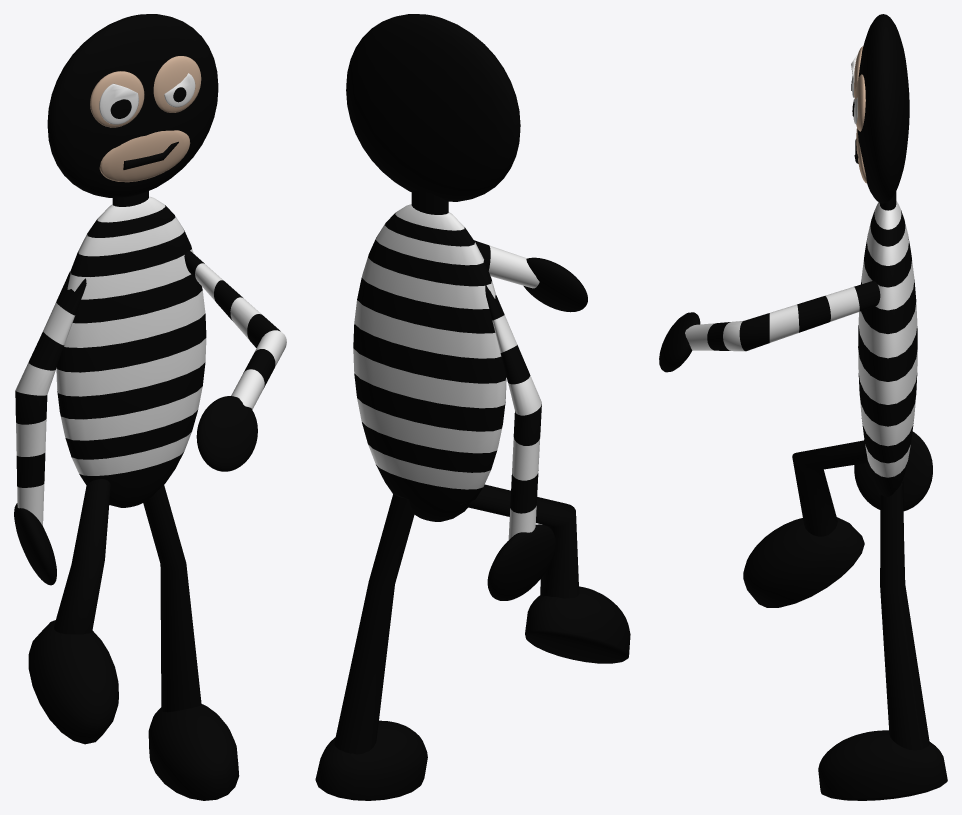
File: Burglar1.fbx
3 views of the same model, side by side, from view 1: azimuth 30°, elevation 25°; view 2: azimuth 150°, elevation 25°; view 3: azimuth 270°, elevation 25° (orthographic). The views are drawn at different scales.
Parts seen in each view (by area): view 1: pSphere1, pSphere2, pasted__pasted__pasted__pSphere1, pasted__pasted__pasted__pasted__pSphere1, pCylinder1, pasted__pasted__pasted__pCylinder1, pasted__pCylinder1, pasted__pasted__pCylinder1, pasted__pSphere5, pSphere4, pSphere5, pasted__pSphere3 (+3 smaller); view 2: pSphere1, pSphere2, pCylinder1, pasted__pasted__pasted__pasted__pSphere1, pasted__pasted__pasted__pSphere1, pasted__pasted__pasted__pCylinder1, pasted__pCylinder1, pSphere5, pasted__pSphere5, pasted__pasted__pCylinder1, pCylinder2; view 3: pSphere1, pCylinder1, pSphere2, pasted__pasted__pasted__pSphere1, pasted__pasted__pasted__pasted__pSphere1, pasted__pasted__pCylinder1, pasted__pCylinder1, pSphere5, pasted__pSphere5.
Boxes of the visible parts, x1,y1,x2,y2 form: pSphere1: (56, 196, 206, 507); pSphere2: (47, 14, 218, 197); pasted__pasted__pasted__pSphere1: (28, 620, 118, 744); pasted__pasted__pasted__pasted__pSphere1: (148, 704, 239, 800); pCylinder1: (143, 485, 201, 712); pasted__pasted__pasted__pCylinder1: (15, 271, 86, 525); pasted__pCylinder1: (54, 479, 110, 634); pasted__pasted__pCylinder1: (184, 251, 286, 409); pasted__pSphere5: (196, 396, 257, 471); pSphere4: (99, 130, 190, 182); pSphere5: (14, 503, 56, 585); pasted__pSphere3: (153, 56, 201, 112); pSphere1: (353, 204, 506, 521); pSphere2: (346, 14, 520, 201); pCylinder1: (334, 493, 414, 754); pasted__pasted__pasted__pasted__pSphere1: (315, 720, 427, 800); pasted__pasted__pasted__pSphere1: (525, 586, 630, 663); pasted__pasted__pasted__pCylinder1: (485, 284, 541, 539); pasted__pCylinder1: (460, 484, 579, 598); pSphere5: (487, 524, 555, 600); pasted__pSphere5: (523, 257, 587, 312); pasted__pasted__pCylinder1: (474, 240, 539, 288); pCylinder2: (411, 190, 448, 214); pSphere1: (858, 201, 917, 496); pCylinder1: (880, 481, 929, 750); pSphere2: (857, 14, 909, 203); pasted__pasted__pasted__pSphere1: (743, 517, 864, 607); pasted__pasted__pasted__pasted__pSphere1: (818, 730, 947, 800); pasted__pasted__pCylinder1: (685, 281, 880, 351); pasted__pCylinder1: (792, 440, 868, 536); pSphere5: (854, 431, 932, 511); pasted__pSphere5: (659, 312, 700, 372).
Size of the model in its own units: 5.57 by 17.4 by 6.1.
